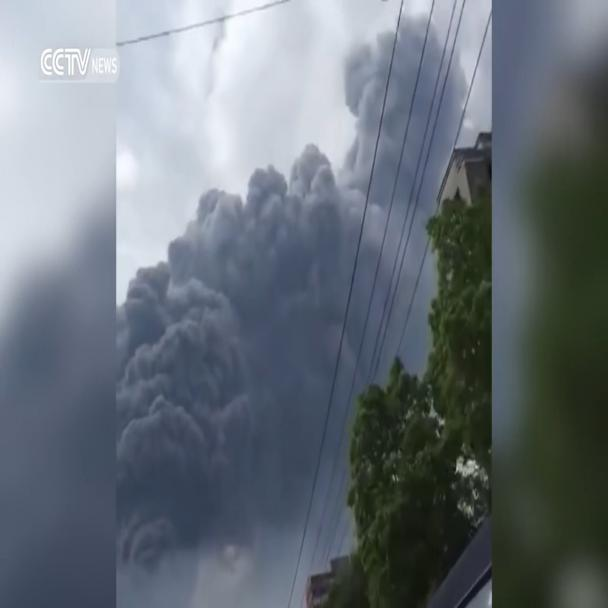smoke: (123, 8, 461, 607)
